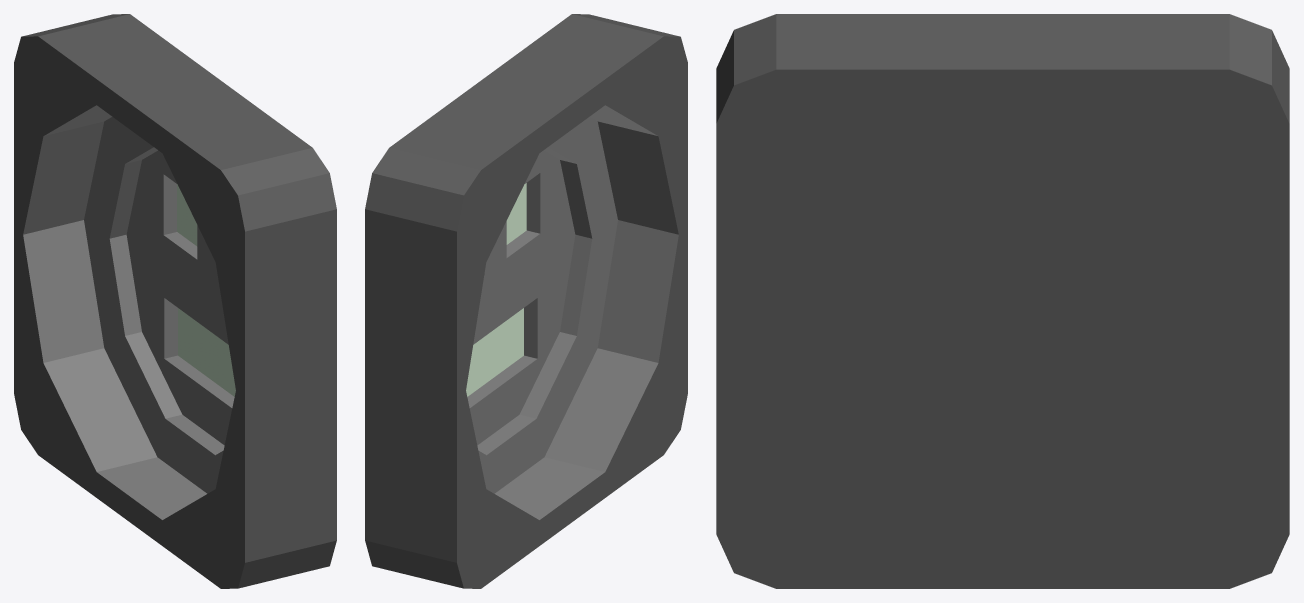
Rendered from Priz.fbx.
3 renders of one model, left to right at view 1: azimuth 30°, elevation 25°; view 2: azimuth 150°, elevation 25°; view 3: azimuth 270°, elevation 25°, orthographic. The views are drawn at different scales.
Parts seen in each view (by area): view 1: Cube.021; view 2: Cube.021; view 3: Cube.021.
Part boxes in pixels (x1=…): Cube.021: x1=14, y1=14, x2=336, y2=588; Cube.021: x1=365, y1=14, x2=687, y2=588; Cube.021: x1=716, y1=14, x2=1289, y2=588.
Size of the model in its own units: 52.03 by 227 by 227.
